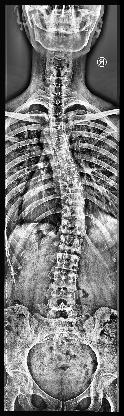Vertebrae: (51, 272, 78, 292), (50, 290, 76, 310), (54, 253, 82, 271), (58, 235, 84, 254), (62, 220, 85, 236), (64, 204, 86, 219), (61, 167, 81, 181), (59, 156, 77, 170), (66, 192, 86, 204), (52, 136, 69, 150), (66, 180, 85, 192), (56, 146, 72, 160), (50, 94, 66, 106), (49, 116, 65, 128), (50, 127, 66, 139), (49, 84, 67, 94), (49, 106, 65, 116)
